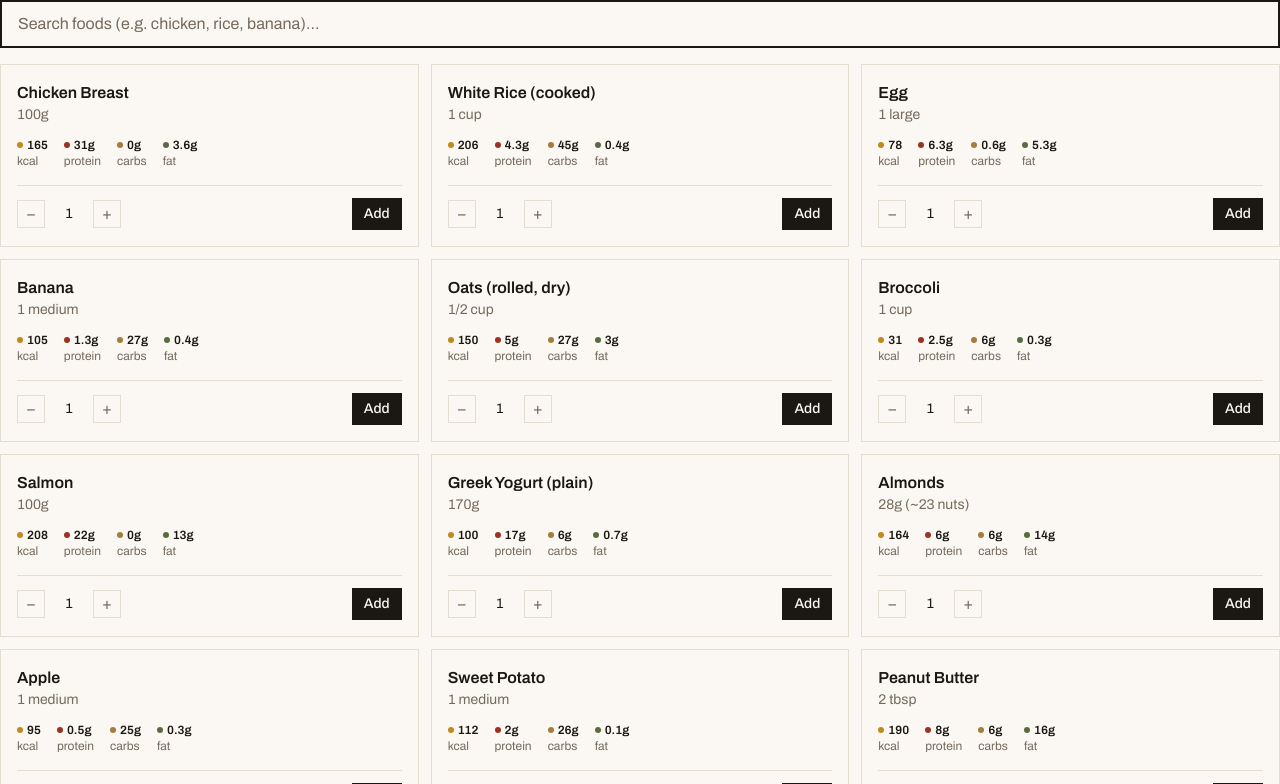
FoodSearchPanel (integration: search + filter + add wiring) › filters the grid live as the user types, case-insensitively
The image size is (1280, 784).
Type "BAN" into the field labelled "Search foods (e.g. chicken, rice, banana)…" at [640, 24], box [0,0,1279,48]
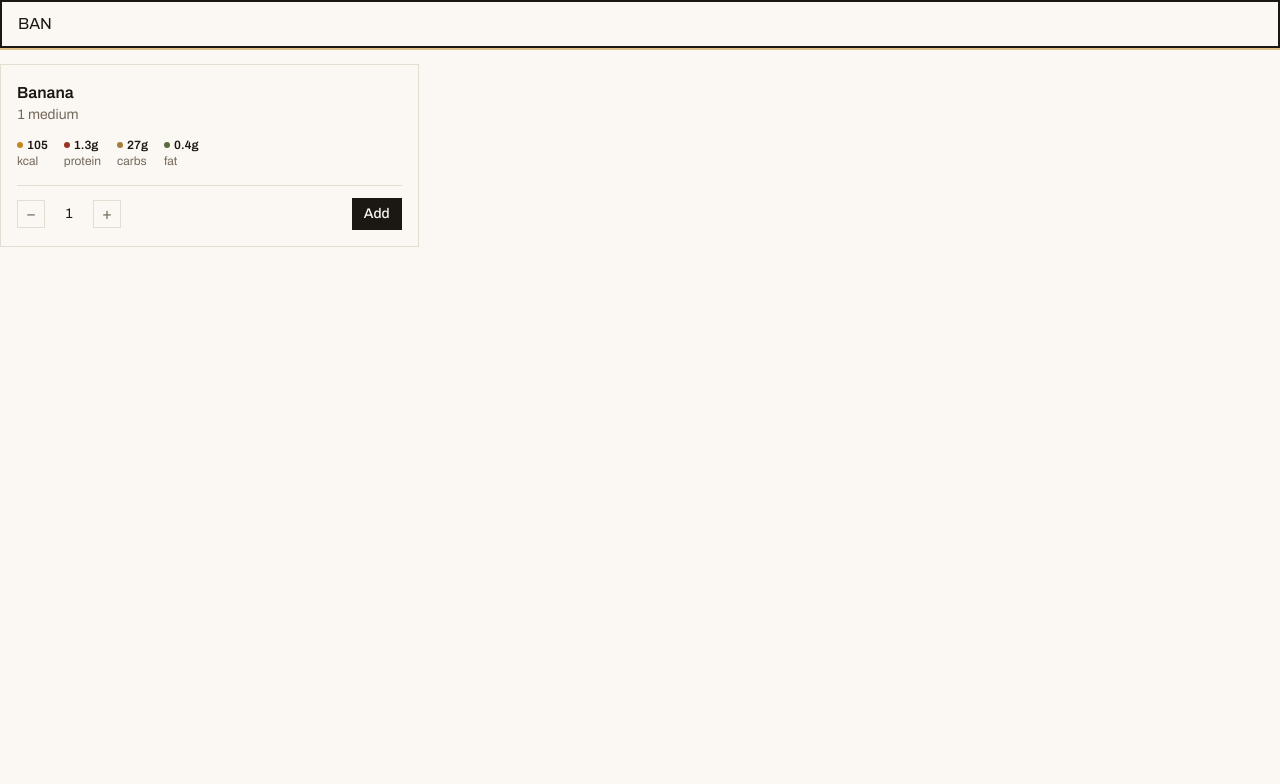
Expected: the heading "Banana" is shown, [17,84,74,101]
Result: the heading "Chicken Breast" is gone
Result: the number of buttons "Add" is 1 at [352,198,402,230]
